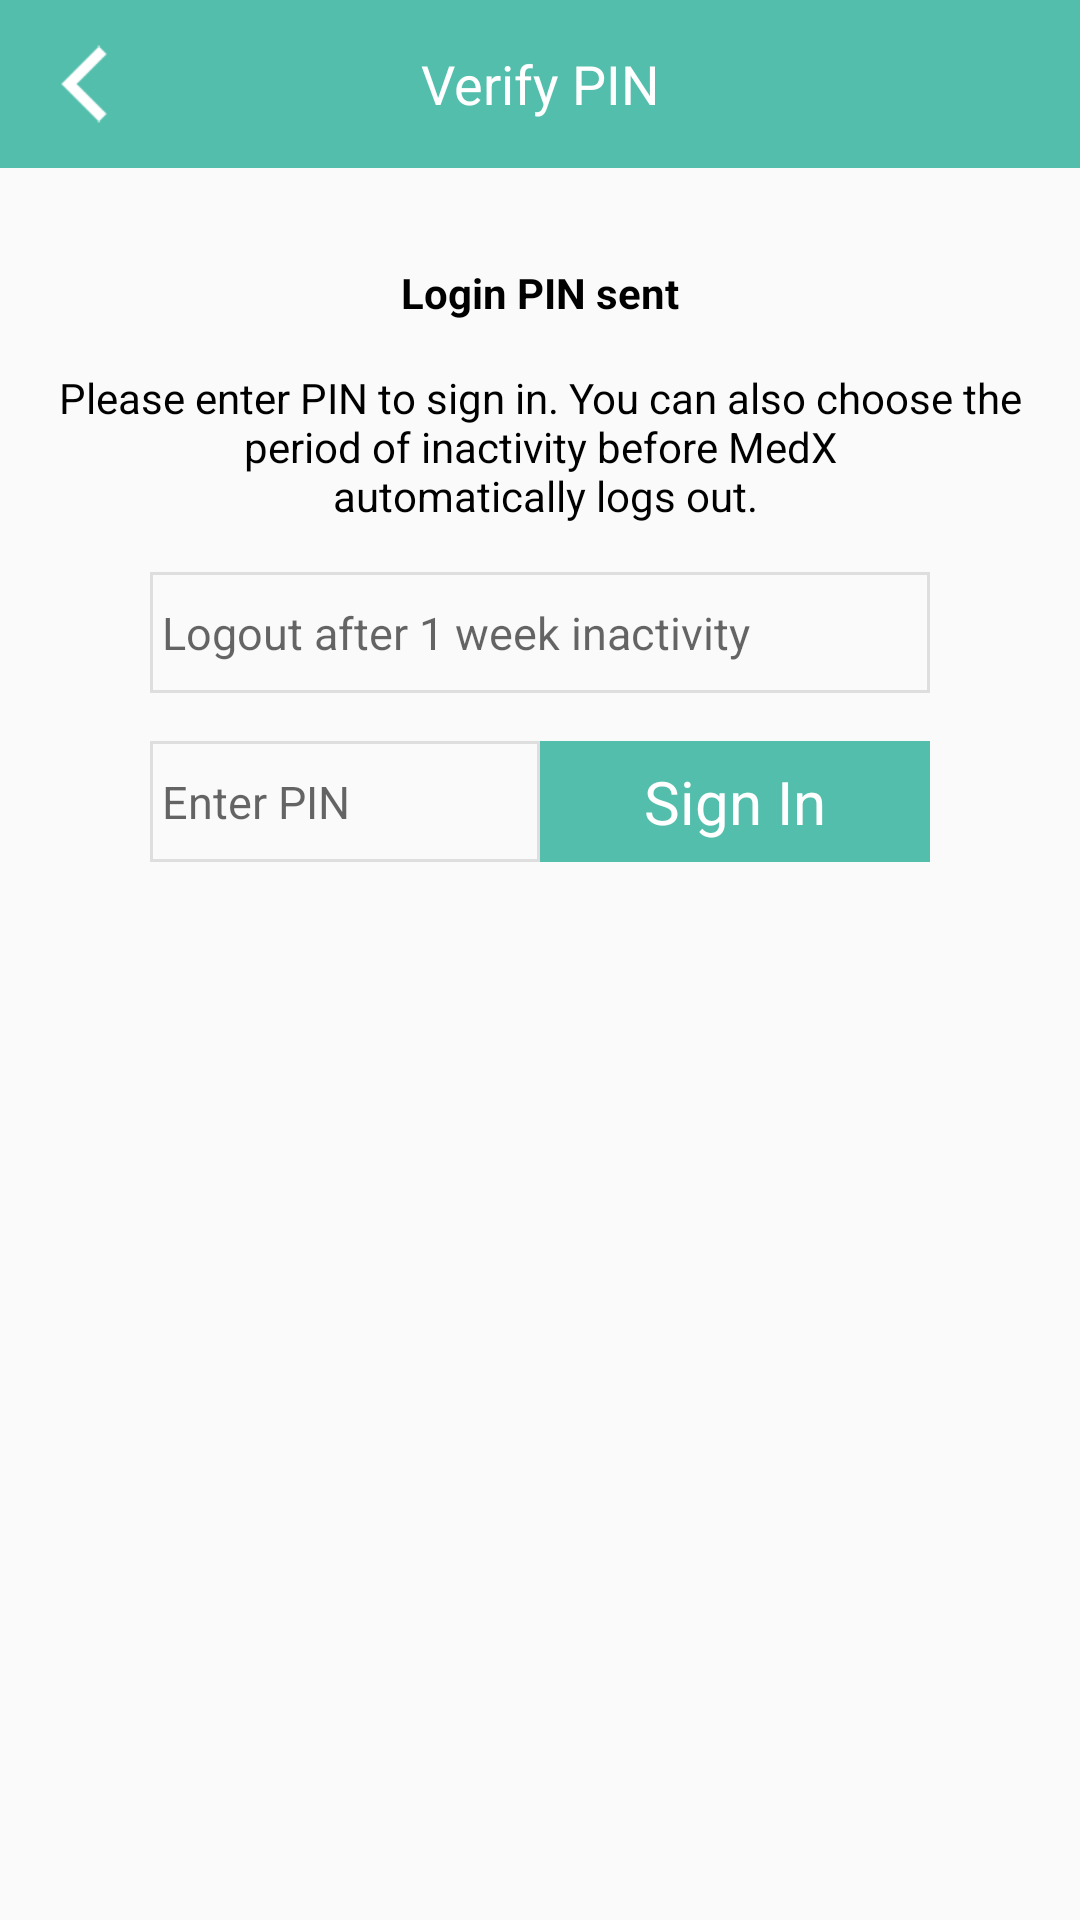

Icon click points for this 1080px x 1920px phone screenshot, format [x,y]:
back arrow: [84,84]
